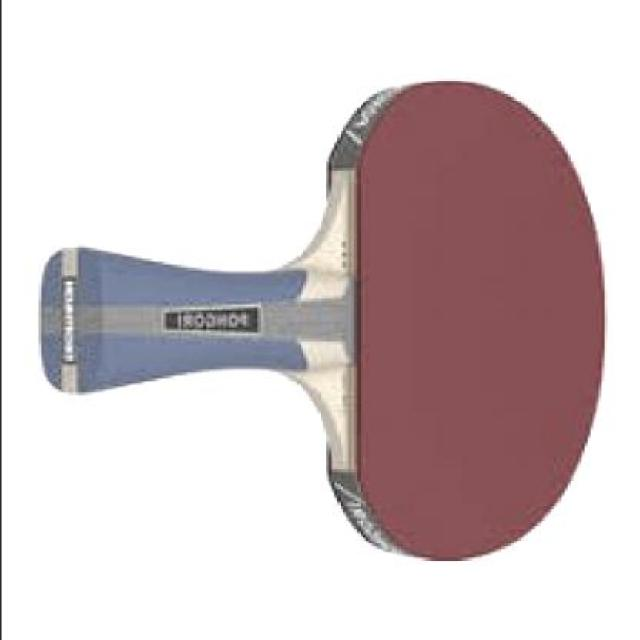table_tennis_racket: (294, 75, 612, 571)
